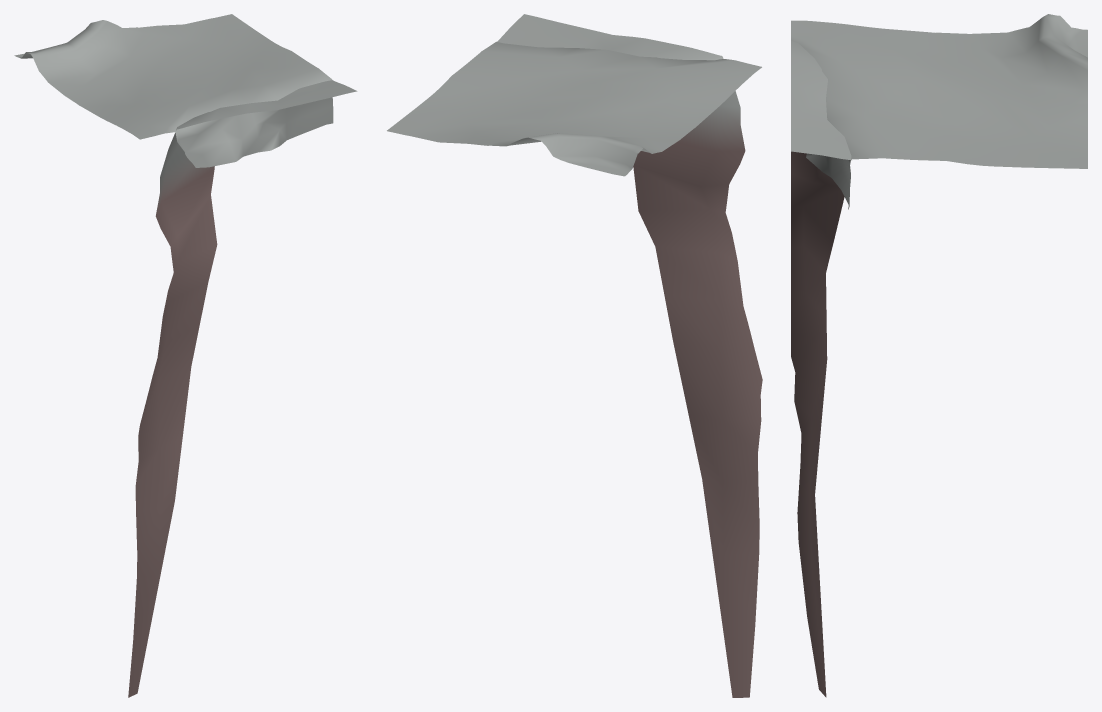
The picture shows the model from 3 angles, left to right: view 1: azimuth 30°, elevation 25°; view 2: azimuth 150°, elevation 25°; view 3: azimuth 270°, elevation 25°; orthographic projection. The views are drawn at different scales.
Parts seen in each view (by area): view 1: G:\FFXIV-MapTools\exports\u5f1\bg\ex4\04_uvs_u5\fld\u5f1\bgp (×7); view 2: G:\FFXIV-MapTools\exports\u5f1\bg\ex4\04_uvs_u5\fld\u5f1\bgp (×6); view 3: G:\FFXIV-MapTools\exports\u5f1\bg\ex4\04_uvs_u5\fld\u5f1\bgp (×7).
Boxes of the visible parts, bbox=[...] form: G:\FFXIV-MapTools\exports\u5f1\bg\ex4\04_uvs_u5\fld\u5f1\bgp (×7): bbox=[14, 14, 357, 697]; G:\FFXIV-MapTools\exports\u5f1\bg\ex4\04_uvs_u5\fld\u5f1\bgp (×6): bbox=[387, 14, 762, 697]; G:\FFXIV-MapTools\exports\u5f1\bg\ex4\04_uvs_u5\fld\u5f1\bgp (×7): bbox=[791, 14, 1087, 697].
Size of the model in its own units: 128 by 323 by 128.
